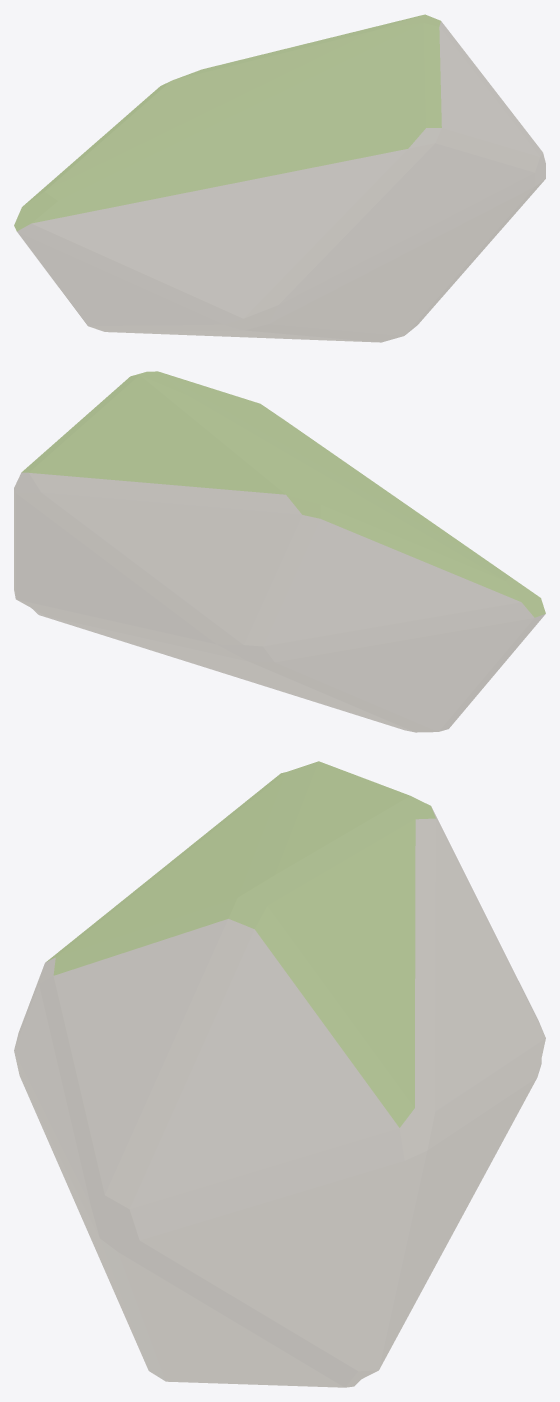
File: Blender_BoulderAngular_4.glb
3 renders of one model, top to bottom at view 1: azimuth 30°, elevation 25°; view 2: azimuth 150°, elevation 25°; view 3: azimuth 270°, elevation 25°, orthographic. The views are drawn at different scales.
Visible parts, largest first — view 1: Blender_BoulderAngular_4; view 2: Blender_BoulderAngular_4; view 3: Blender_BoulderAngular_4.
Boxes of the visible parts, bbox=[...] form: Blender_BoulderAngular_4: bbox=[14, 14, 545, 342]; Blender_BoulderAngular_4: bbox=[14, 371, 545, 732]; Blender_BoulderAngular_4: bbox=[14, 761, 545, 1387].
Size of the model in its own units: 2.51 by 1.4 by 1.3.
